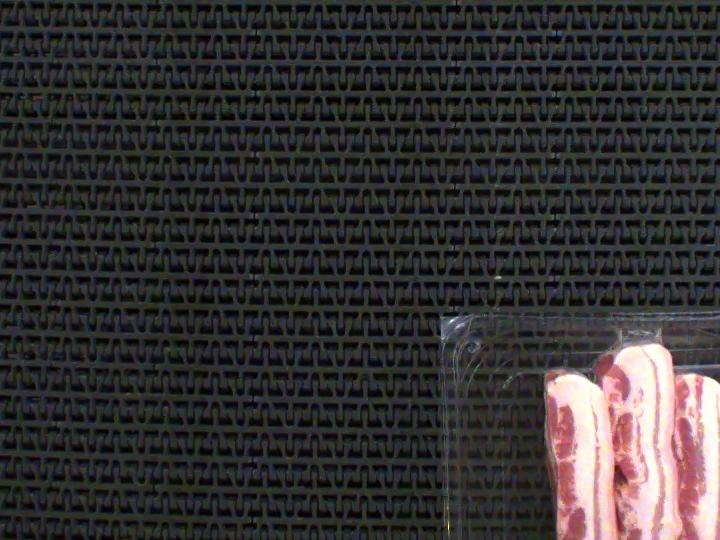packaging-error: (609, 321, 679, 345)
